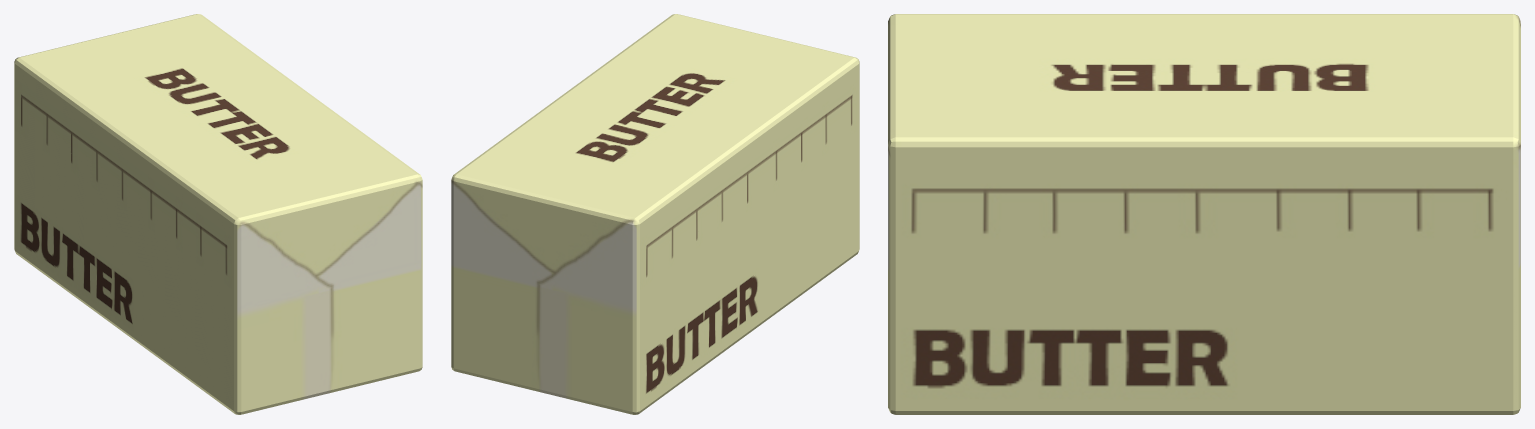
The model's file is GOW_Fridge_Prop_Butter_01.fbx.
3 renders of one model, left to right at view 1: azimuth 30°, elevation 25°; view 2: azimuth 150°, elevation 25°; view 3: azimuth 270°, elevation 25°, orthographic. The views are drawn at different scales.
Parts seen in each view (by area): view 1: GOW_Fridge_Prop_Butter_01; view 2: GOW_Fridge_Prop_Butter_01; view 3: GOW_Fridge_Prop_Butter_01.
Boxes of the visible parts, <box> form: GOW_Fridge_Prop_Butter_01: <box>14,14,422,414</box>; GOW_Fridge_Prop_Butter_01: <box>451,14,859,414</box>; GOW_Fridge_Prop_Butter_01: <box>888,14,1520,414</box>.
Bounding box in the file's own units: 4.77 × 4.77 × 9.86.
1 material, 1 textured.
